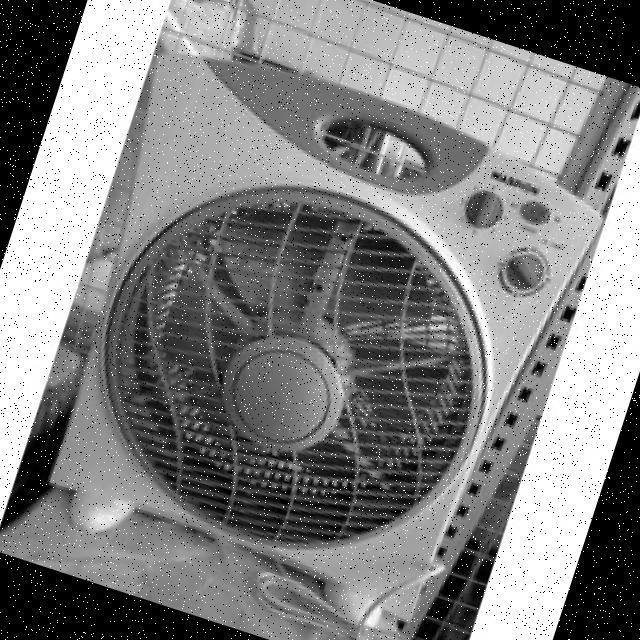fan: (5, 28, 612, 640)
